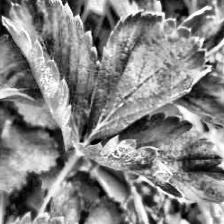Powdery Mildew Leaf: (85, 10, 213, 142), (0, 0, 102, 151), (71, 111, 224, 204)
